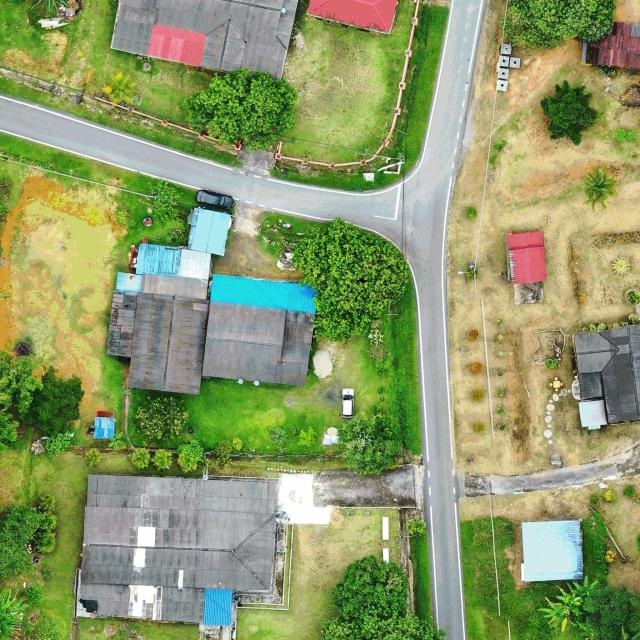Tree: (291, 215, 411, 346), (180, 68, 298, 154), (503, 0, 616, 53), (328, 554, 410, 620), (20, 364, 85, 435), (336, 411, 405, 476), (539, 80, 602, 146), (582, 583, 640, 640), (0, 504, 41, 581), (135, 392, 190, 441), (0, 584, 31, 640), (581, 166, 618, 210), (538, 595, 577, 632), (174, 437, 206, 473), (104, 70, 137, 104), (213, 437, 243, 467), (556, 582, 582, 615), (46, 430, 74, 458), (571, 576, 599, 599), (150, 448, 174, 469), (128, 446, 150, 468), (406, 518, 427, 537), (107, 430, 125, 450), (465, 206, 477, 220)
